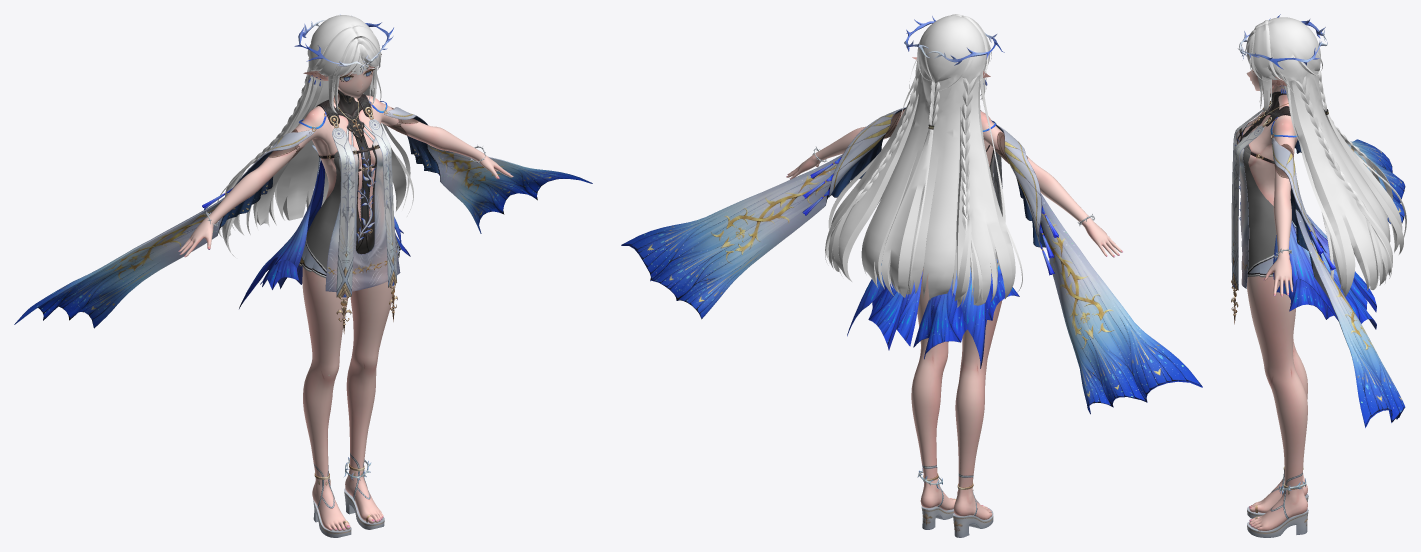
File: cartethyia_wuthering_waves.glb
3 renders of one model, left to right at view 1: azimuth 30°, elevation 25°; view 2: azimuth 150°, elevation 25°; view 3: azimuth 270°, elevation 25°, orthographic.
Visible parts, largest first — view 1: Up_Skin_New_Material_Variant_Variant_Variant_Variant_Variant, Alpha, Up_, Hair_Back, Down_Belt, Up_Cloth_New_Material_Variant_Variant_Variant_Variant_Varian, Hair_Bangs, Down_, Up_Dress, Down_Shoe, Face__1, Down_Metal; view 2: Hair_Back, Alpha, Up_Skin_New_Material_Variant_Variant_Variant_Variant_Variant, Down_, Up_, Down_Shoe, Down_Liusu; view 3: Hair_Back, Up_Skin_New_Material_Variant_Variant_Variant_Variant_Variant, Alpha, Up_, Down_, Up_Dress, Hair_Bangs, Down_Belt, Up_Cloth_New_Material_Variant_Variant_Variant_Variant_Varian, Down_Shoe, Down_Hairpin, Down_Metal (+1 smaller).
Part boxes in pixels (x1=…): Up_Skin_New_Material_Variant_Variant_Variant_Variant_Variant: x1=178, y1=89, x2=513, y2=530; Alpha: x1=14, y1=107, x2=592, y2=328; Up_: x1=265, y1=90, x2=424, y2=524; Hair_Back: x1=217, y1=15, x2=413, y2=257; Down_Belt: x1=299, y1=101, x2=396, y2=297; Up_Cloth_New_Material_Variant_Variant_Variant_Variant_Varian: x1=325, y1=138, x2=400, y2=292; Hair_Bangs: x1=312, y1=25, x2=381, y2=113; Down_: x1=239, y1=145, x2=410, y2=308; Up_Dress: x1=299, y1=151, x2=400, y2=278; Down_Shoe: x1=313, y1=488, x2=384, y2=537; Face__1: x1=303, y1=54, x2=381, y2=98; Down_Metal: x1=224, y1=94, x2=397, y2=333; Hair_Back: x1=825, y1=15, x2=1022, y2=307; Alpha: x1=621, y1=107, x2=1202, y2=414; Up_Skin_New_Material_Variant_Variant_Variant_Variant_Variant: x1=786, y1=126, x2=1122, y2=519; Down_: x1=847, y1=259, x2=1019, y2=368; Up_: x1=883, y1=109, x2=1032, y2=519; Down_Shoe: x1=921, y1=506, x2=993, y2=537; Down_Liusu: x1=802, y1=157, x2=1058, y2=275; Hair_Back: x1=1268, y1=17, x2=1406, y2=296; Up_Skin_New_Material_Variant_Variant_Variant_Variant_Variant: x1=1247, y1=84, x2=1307, y2=530; Alpha: x1=1271, y1=137, x2=1405, y2=427; Up_: x1=1237, y1=91, x2=1307, y2=529; Down_: x1=1273, y1=187, x2=1376, y2=329; Up_Dress: x1=1243, y1=144, x2=1276, y2=277; Hair_Bangs: x1=1245, y1=20, x2=1283, y2=111; Down_Belt: x1=1231, y1=109, x2=1297, y2=290; Up_Cloth_New_Material_Variant_Variant_Variant_Variant_Varian: x1=1235, y1=123, x2=1249, y2=288; Down_Shoe: x1=1247, y1=494, x2=1308, y2=537; Down_Hairpin: x1=1238, y1=14, x2=1327, y2=69; Down_Metal: x1=1231, y1=100, x2=1328, y2=324.
Size of the model in its own units: 4.76 by 3.96 by 1.25.
Materials: 16 (8 with a texture image).
